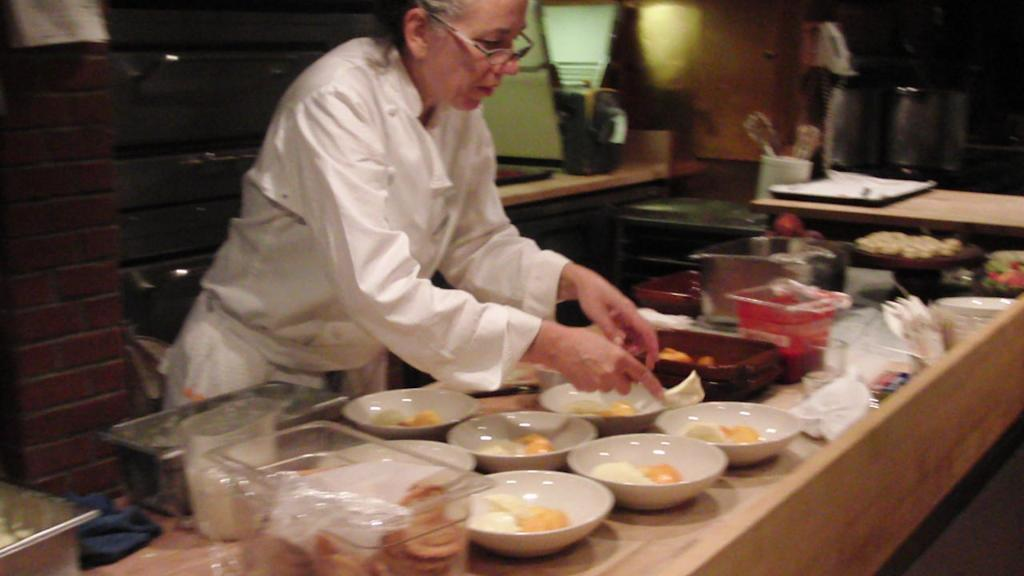Person: (157, 0, 667, 412)
